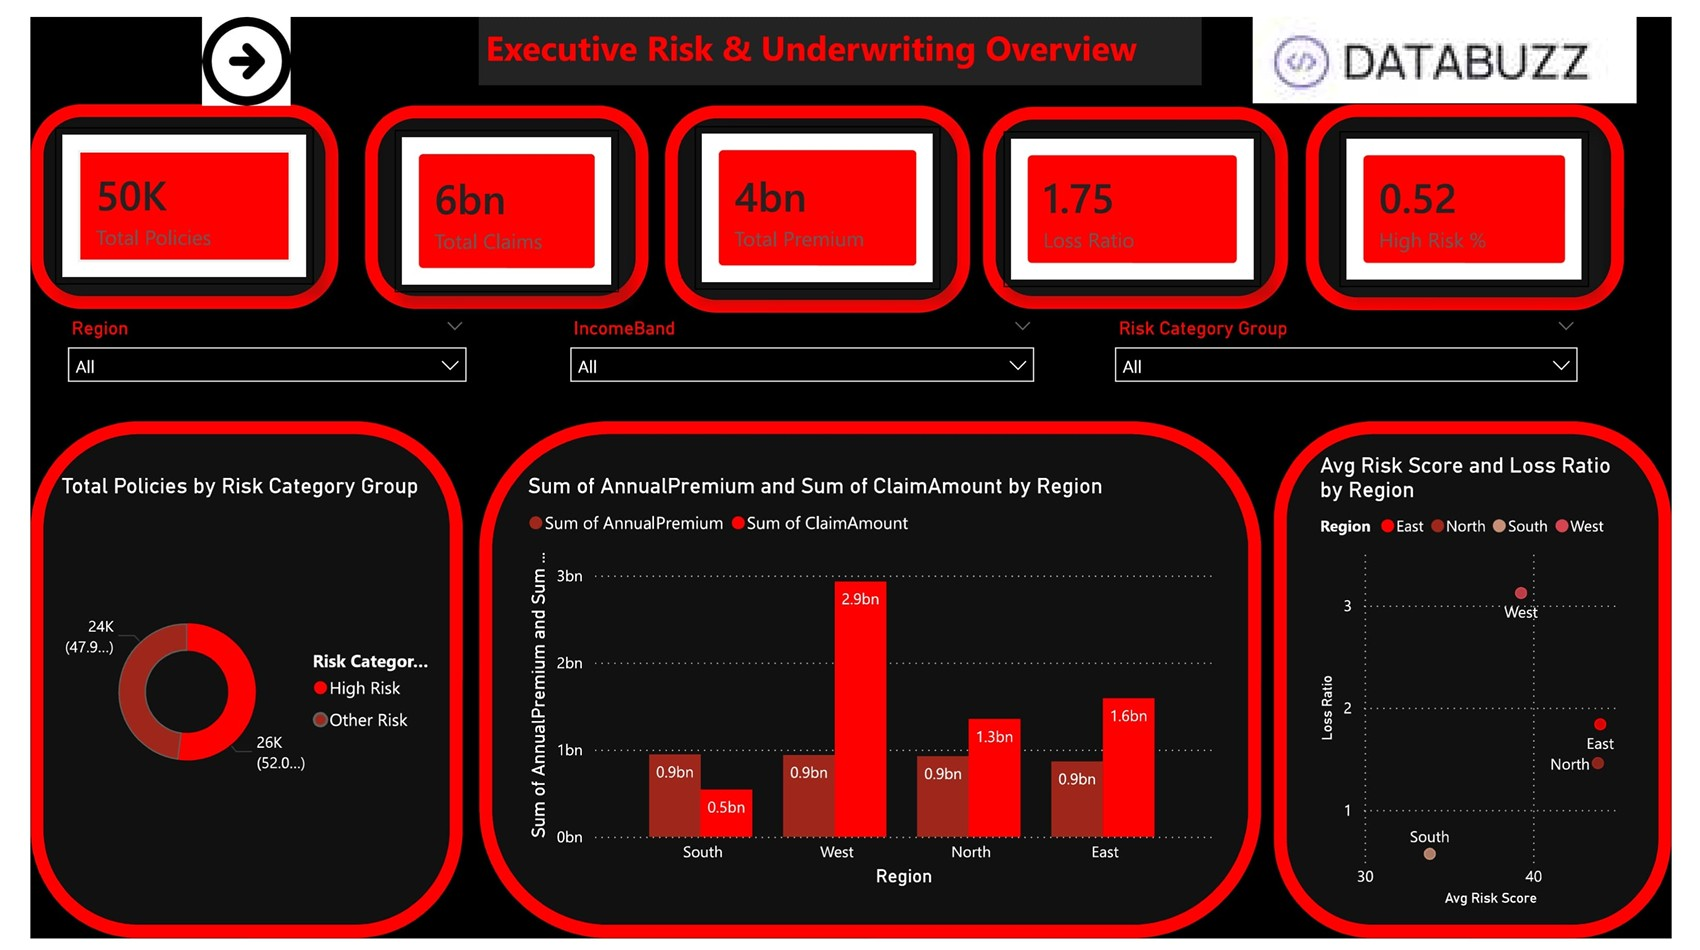

What the dashboard file says about the page in this screenshot:
{"tool":"powerbi","page":{"name":"Executive Risk & Underwriting Overview","canvas":[1280,720],"ordinal":1},"visuals":[{"type":"shape","box":[350,315.7,610,404.3],"z":0},{"type":"shape","box":[970,315.7,310,404.3],"z":1000},{"type":"shape","box":[0,315.7,337.1,404.3],"z":2000},{"type":"shape","box":[742.5,70,238.3,158.3],"z":3000},{"type":"shape","box":[0,67.5,240,160],"z":4000},{"type":"shape","box":[260.7,68.6,220.9,159.2],"z":5000},{"type":"shape","box":[495.4,68.6,237.4,161.9],"z":6000},{"type":"cardVisual","fields":{"Data":["_Measures.Total Policies"]},"box":[18.8,86.2,202.5,122.5],"z":7000},{"type":"cardVisual","fields":{"Data":["_Measures.Total Claims"]},"box":[283.8,87.5,175,127.5],"z":8000},{"type":"cardVisual","fields":{"Data":["_Measures.Total Premium"]},"box":[517.5,85,192.5,127.5],"z":9000},{"type":"shape","box":[995,68,248,161],"z":10000},{"type":"cardVisual","fields":{"Data":["_Measures.Loss Ratio"]},"box":[758.8,88.8,201.2,122.5],"z":11000},{"type":"cardVisual","fields":{"Data":["_Measures.High Risk %"]},"box":[1021.2,88.8,195,122.5],"z":12000},{"type":"donutChart","fields":{"Y":["_Measures.Total Policies"],"Category":["Fact_Risk_Premium.Risk Category Group"]},"box":[18.6,355.7,300,324.3],"z":13000},{"type":"clusteredColumnChart","fields":{"Y":["Sum(Fact_Risk_Premium.AnnualPremium)","Sum(Fact_Risk_Premium.ClaimAmount)"],"Category":["Dim_Customer.Region"]},"box":[382.9,355.7,544.3,328.6],"z":14000},{"type":"scatterChart","fields":{"X":["_Measures.Avg Risk Score"],"Y":["_Measures.Loss Ratio"],"Series":["Dim_Customer.Region"]},"box":[1001.4,340,248.6,360],"z":15000},{"type":"textbox","box":[350,0,564.3,52.9],"z":16000},{"type":"slicer","fields":{"Values":["Dim_Customer.Region"]},"box":[18.6,230,331.4,74.3],"z":17000},{"type":"slicer","fields":{"Values":["Dim_Customer.IncomeBand"]},"box":[411.4,230,381.4,74.3],"z":18000},{"type":"slicer","fields":{"Values":["Fact_Risk_Premium.Risk Category Group"]},"box":[835.7,230,381.4,74.3],"z":19000},{"type":"image","box":[927.1,0,352.9,67.1],"z":20000},{"type":"image","box":[0,0,337.1,68.6],"z":21000}]}

Visuals, with their boxes in screenshot pixels (x1, y1, x2, y2), scaled from the page's 1280x720 canvas onto the 1700x950 screenshot:
shape: pyautogui.locateOnScreen(465, 417, 1275, 949)
shape: pyautogui.locateOnScreen(1288, 417, 1699, 949)
shape: pyautogui.locateOnScreen(0, 417, 448, 949)
shape: pyautogui.locateOnScreen(986, 92, 1303, 301)
shape: pyautogui.locateOnScreen(0, 89, 319, 300)
shape: pyautogui.locateOnScreen(346, 91, 640, 301)
shape: pyautogui.locateOnScreen(658, 91, 973, 304)
cardVisual - _Measures.Total Policies: pyautogui.locateOnScreen(25, 114, 294, 275)
cardVisual - _Measures.Total Claims: pyautogui.locateOnScreen(377, 115, 609, 284)
cardVisual - _Measures.Total Premium: pyautogui.locateOnScreen(687, 112, 943, 280)
shape: pyautogui.locateOnScreen(1321, 90, 1651, 302)
cardVisual - _Measures.Loss Ratio: pyautogui.locateOnScreen(1008, 117, 1275, 279)
cardVisual - _Measures.High Risk %: pyautogui.locateOnScreen(1356, 117, 1615, 279)
donutChart - _Measures.Total Policies x Fact_Risk_Premium.Risk Category Group: pyautogui.locateOnScreen(25, 469, 423, 897)
clusteredColumnChart - Sum(Fact_Risk_Premium.AnnualPremium) x Sum(Fact_Risk_Premium.ClaimAmount): pyautogui.locateOnScreen(509, 469, 1231, 903)
scatterChart - _Measures.Avg Risk Score x _Measures.Loss Ratio: pyautogui.locateOnScreen(1330, 449, 1660, 924)
textbox: pyautogui.locateOnScreen(465, 0, 1214, 70)
slicer - Dim_Customer.Region: pyautogui.locateOnScreen(25, 303, 465, 402)
slicer - Dim_Customer.IncomeBand: pyautogui.locateOnScreen(546, 303, 1053, 402)
slicer - Fact_Risk_Premium.Risk Category Group: pyautogui.locateOnScreen(1110, 303, 1616, 402)
image: pyautogui.locateOnScreen(1231, 0, 1699, 89)
image: pyautogui.locateOnScreen(0, 0, 448, 91)
